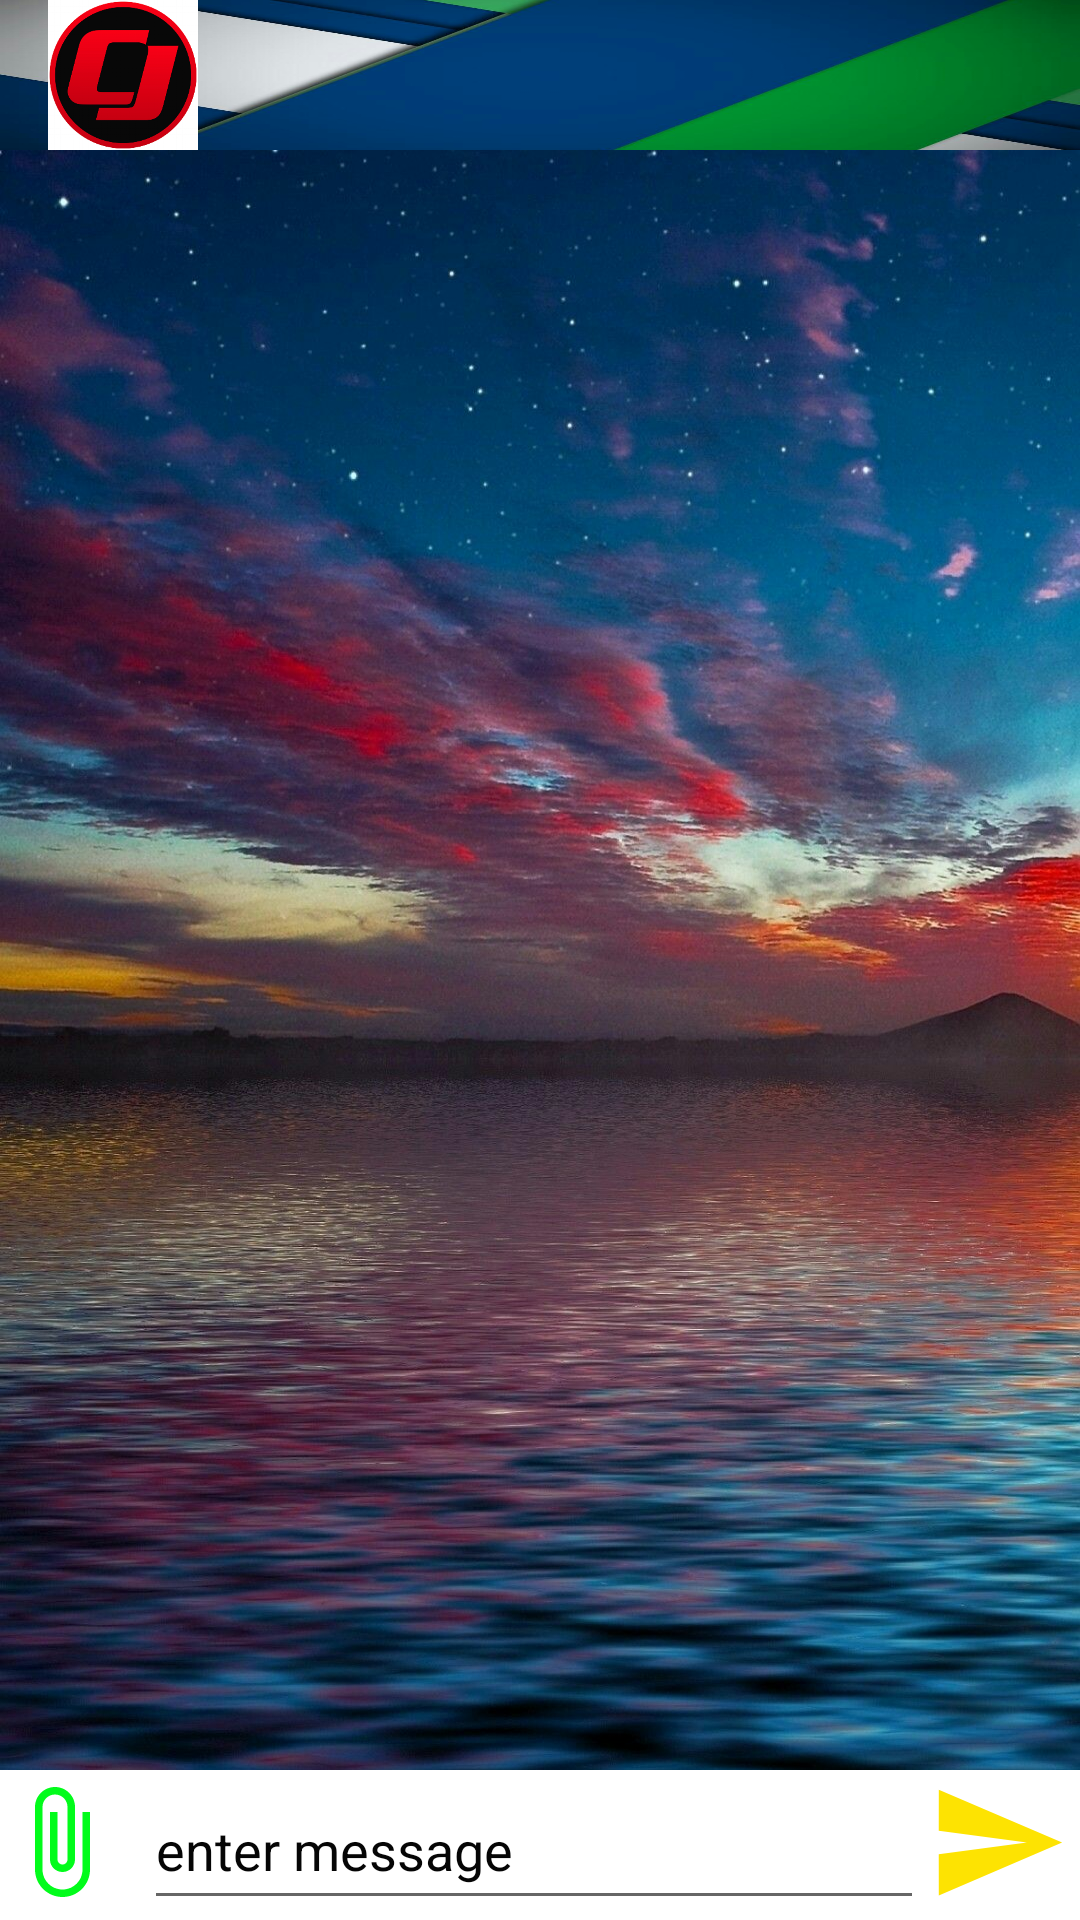

Where to tap for icons on this 1080px×1920px app screen, as (x=x, y=y):
attachment: (x=62, y=1842)
send: (x=1000, y=1843)
